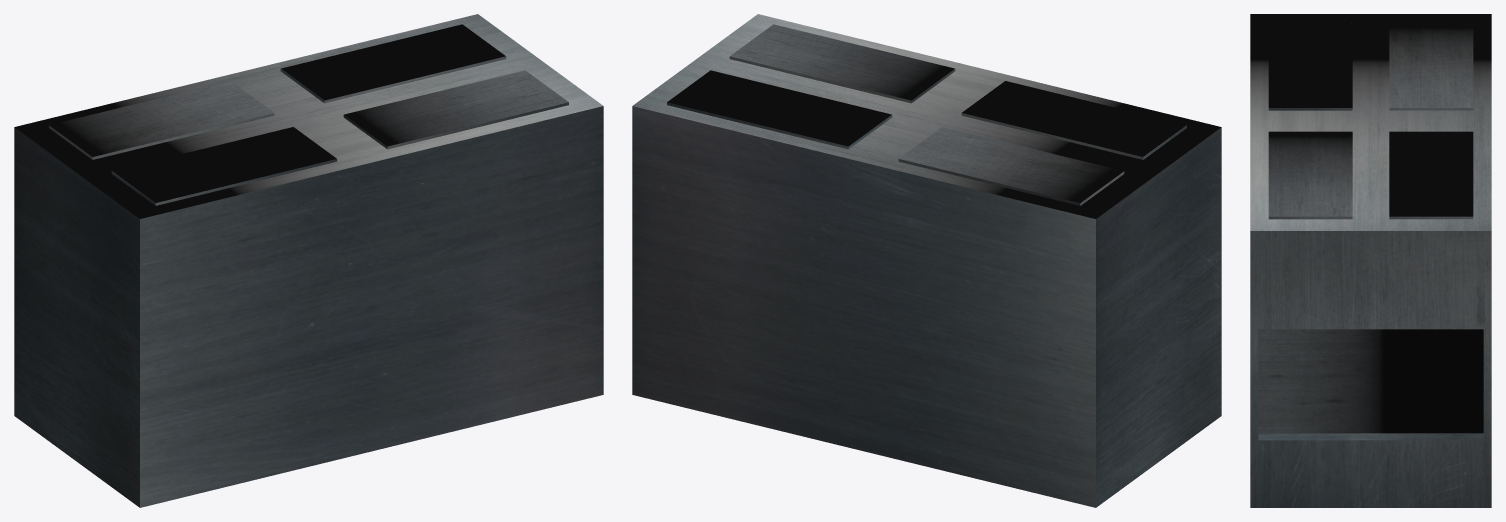
Rendered from Cooker.fbx.
The picture shows the model from 3 angles, left to right: view 1: azimuth 30°, elevation 25°; view 2: azimuth 150°, elevation 25°; view 3: azimuth 270°, elevation 25°; orthographic projection. The views are drawn at different scales.
Visible parts, largest first — view 1: Cooker; view 2: Cooker; view 3: Cooker.
Boxes of the visible parts, x1,y1,x2,y2 form: Cooker: [14, 14, 603, 507]; Cooker: [632, 14, 1221, 507]; Cooker: [1250, 14, 1491, 507].
Size of what is drawn, in the model's own units: 4.26 by 2.56 by 2.
